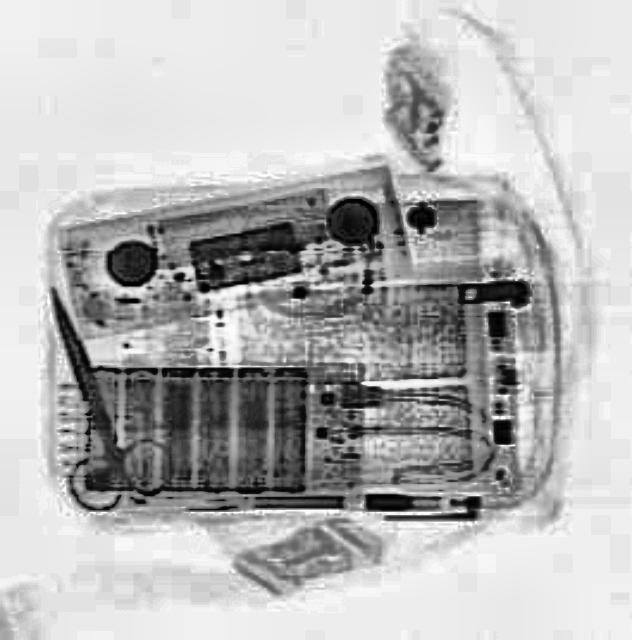Scissors: (1, 266, 176, 514)
